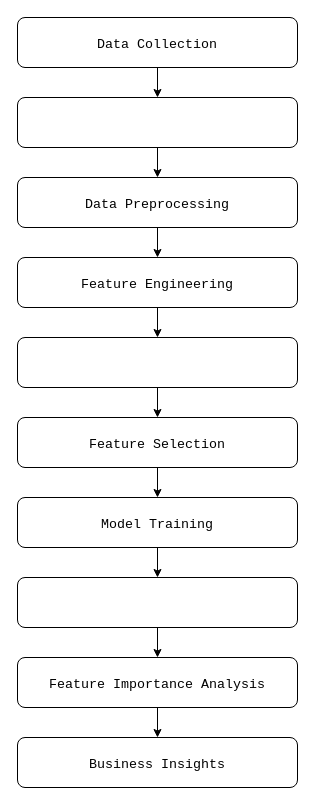
This 315x805 diagram has some shape labels left out. Each missing label, with the centre of its shape:
"Data Cleaning" goes at pixel 157 122.
"Exploratory Data Analysis" goes at pixel 157 362.
"Model Evaluation" goes at pixel 157 602.
